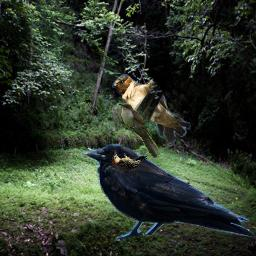Crow: (81, 144, 256, 241)
Cuckoo: (117, 102, 160, 159)
Swallow: (112, 74, 191, 144)
Woodpecker: (109, 149, 150, 172)
